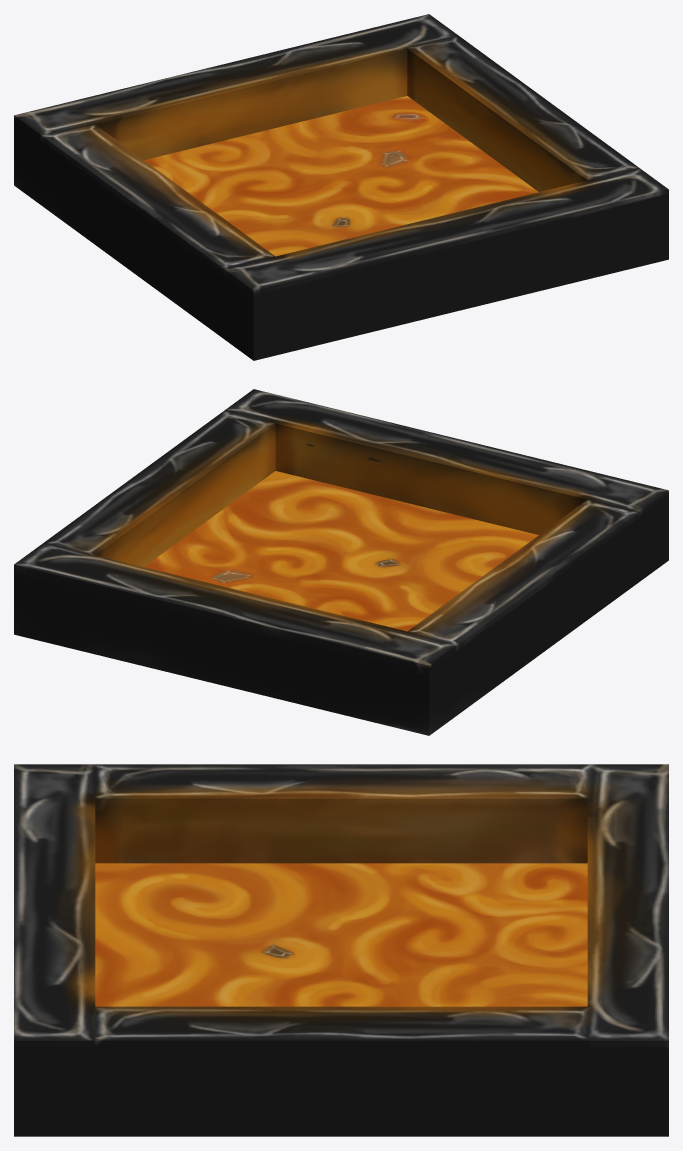
File: Floor_005_Lava_004.fbx
3 renders of one model, top to bottom at view 1: azimuth 30°, elevation 25°; view 2: azimuth 150°, elevation 25°; view 3: azimuth 270°, elevation 25°, orthographic. The views are drawn at different scales.
Visible parts, largest first — view 1: Floor_005_Lava_004; view 2: Floor_005_Lava_004; view 3: Floor_005_Lava_004.
Part boxes in pixels (left/top/right/bottom): Floor_005_Lava_004: left=14, top=14, right=668, bottom=360; Floor_005_Lava_004: left=14, top=389, right=668, bottom=735; Floor_005_Lava_004: left=14, top=764, right=668, bottom=1136.
Size of the model in its own units: 100 by 16.13 by 100.
